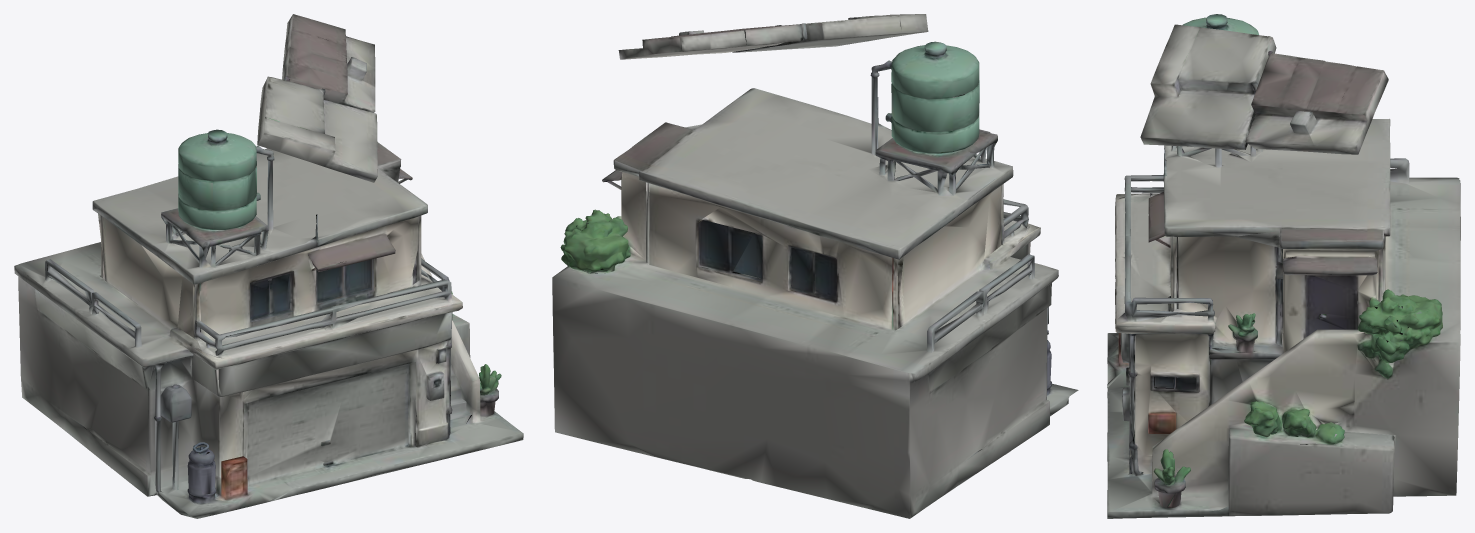
The model's file is building11.glb.
3 views of the same model, side by side, from view 1: azimuth 30°, elevation 25°; view 2: azimuth 150°, elevation 25°; view 3: azimuth 270°, elevation 25° (orthographic). The views are drawn at different scales.
Parts seen in each view (by area): view 1: lo; view 2: lo; view 3: lo.
Part boxes in pixels (left/top/right/bottom): lo: left=14, top=14, right=523, bottom=518; lo: left=552, top=14, right=1078, bottom=518; lo: left=1107, top=14, right=1460, bottom=518.
Size of the model in its own units: 1 by 0.9656 by 0.7872.
1 material, 1 textured.
